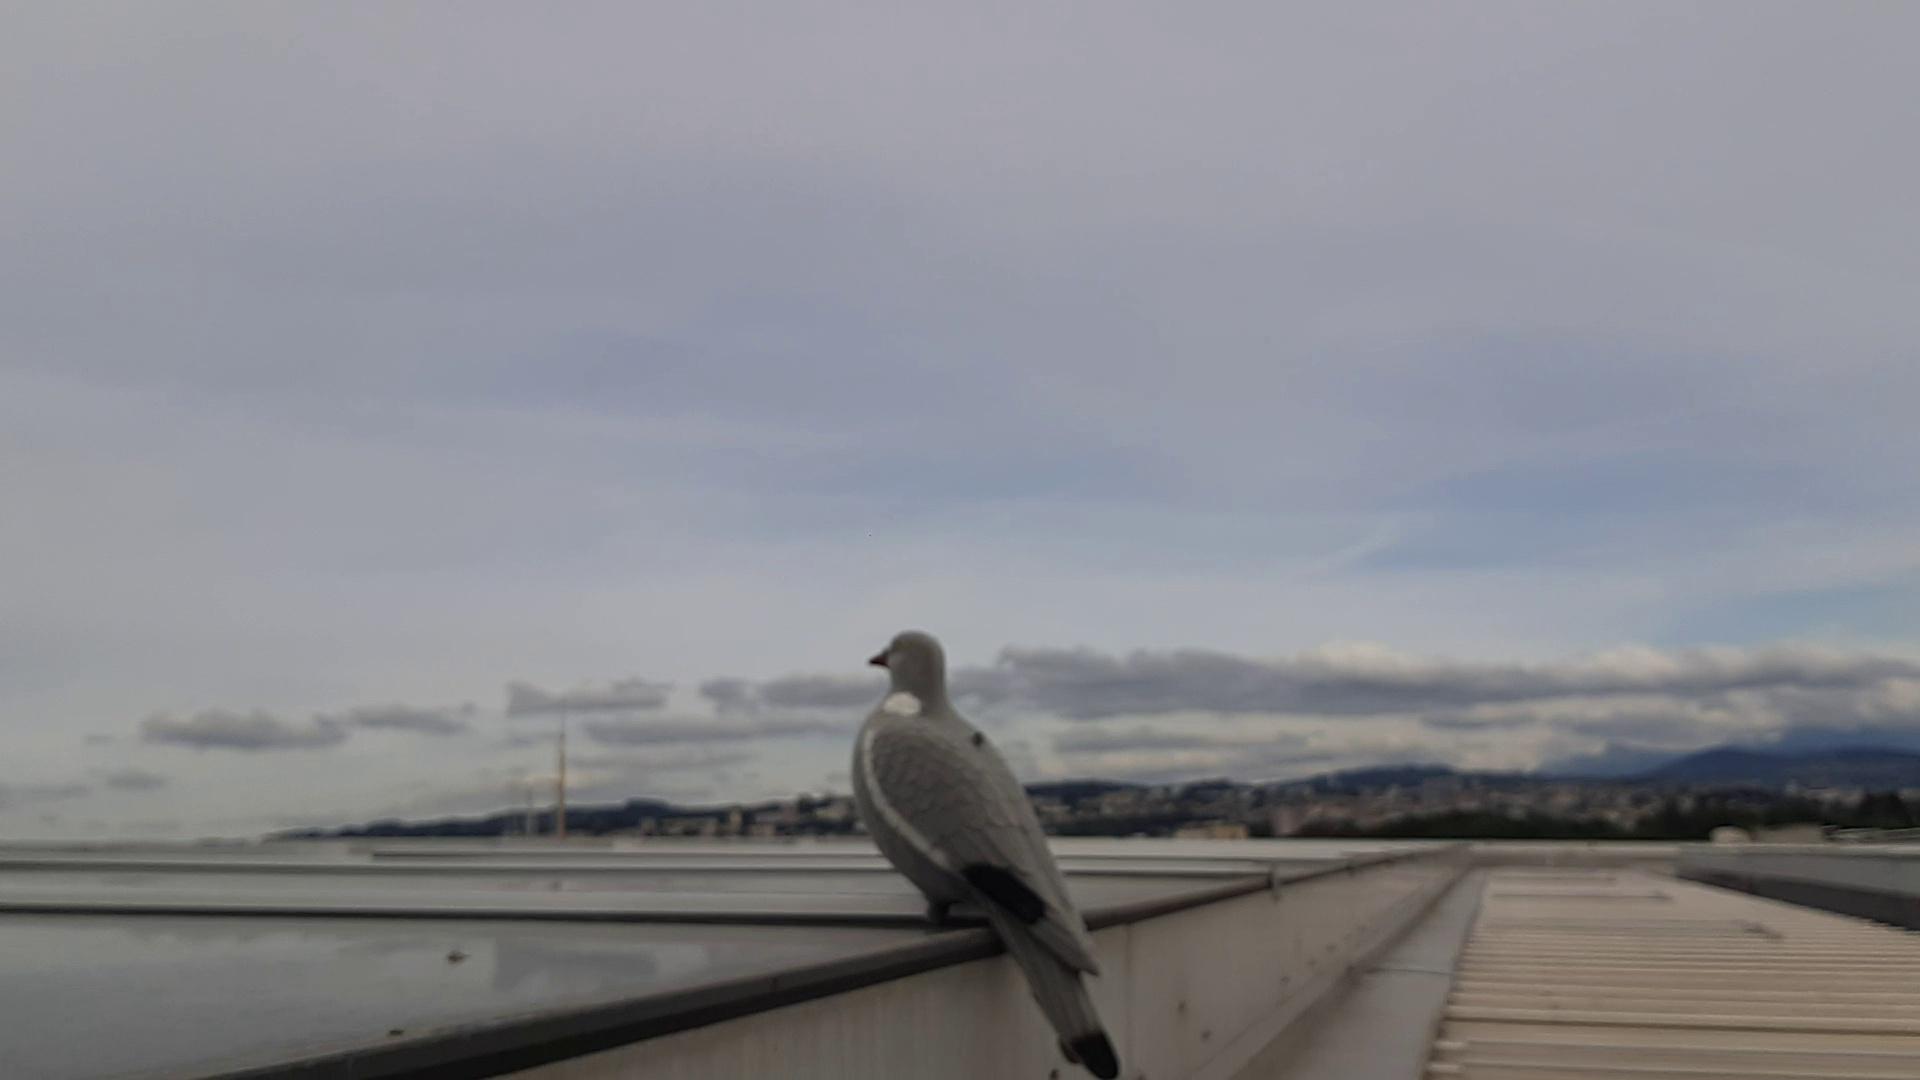Pigeon: (845, 622, 1124, 1062)
